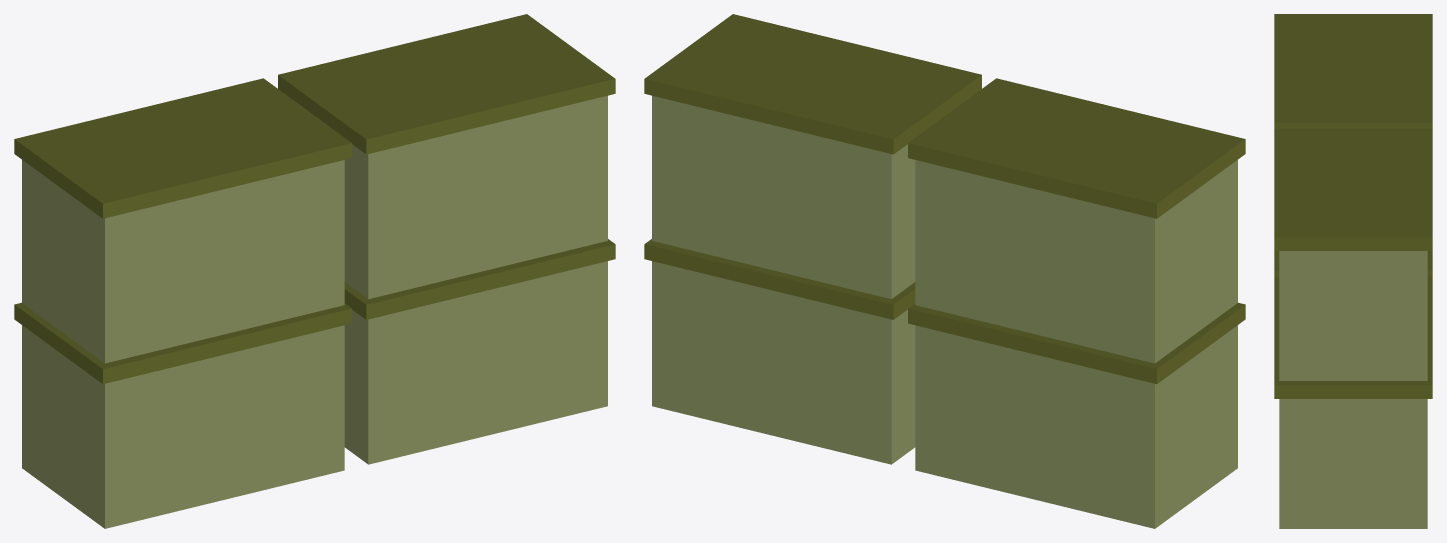
Rendered from SM_CajasMunicion_v2_Pila4_LOD1.fbx.
3 views of the same model, side by side, from view 1: azimuth 30°, elevation 25°; view 2: azimuth 150°, elevation 25°; view 3: azimuth 270°, elevation 25° (orthographic). The views are drawn at different scales.
Parts seen in each view (by area): view 1: SM_farp_betera_v22_LOD1; view 2: SM_farp_betera_v22_LOD1; view 3: SM_farp_betera_v22_LOD1.
Boxes of the visible parts, left/top/right/bottom form: SM_farp_betera_v22_LOD1: left=14, top=14, right=615, bottom=528; SM_farp_betera_v22_LOD1: left=644, top=14, right=1245, bottom=528; SM_farp_betera_v22_LOD1: left=1274, top=14, right=1432, bottom=528.
Size of the model in its own units: 1.07 by 0.655 by 0.32.
